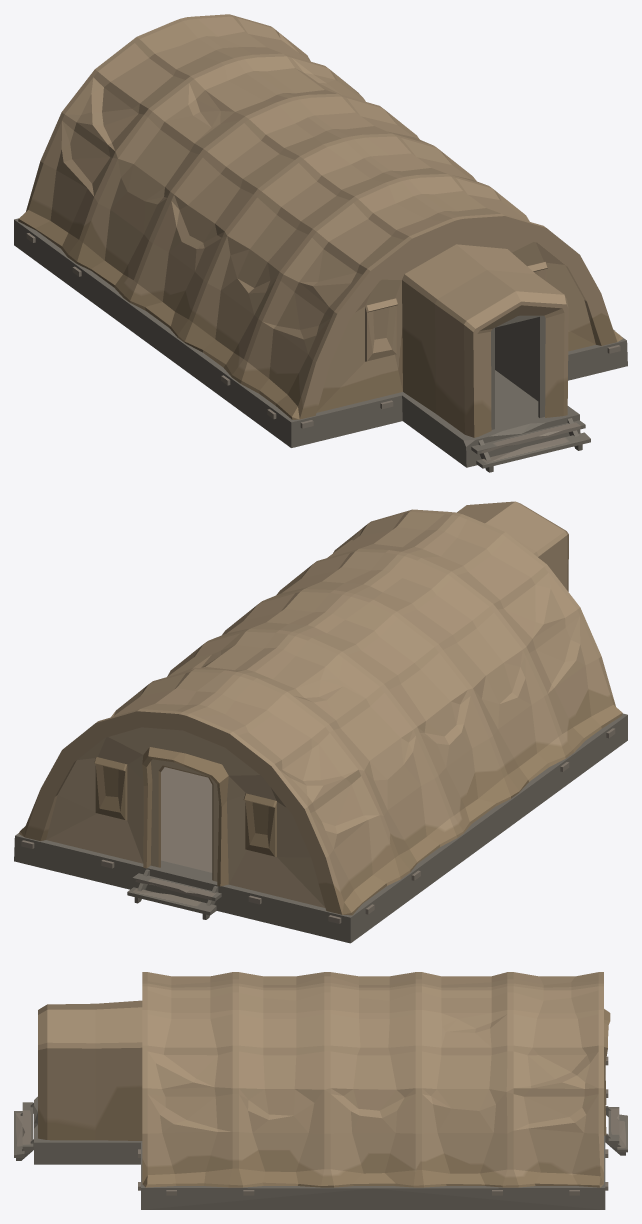
File: SM_Bld_Tent_Entrance_01.glb
3 renders of one model, top to bottom at view 1: azimuth 30°, elevation 25°; view 2: azimuth 150°, elevation 25°; view 3: azimuth 270°, elevation 25°, orthographic. The views are drawn at different scales.
Visible parts, largest first — view 1: SM_Bld_Tent_Entrance_01; view 2: SM_Bld_Tent_Entrance_01; view 3: SM_Bld_Tent_Entrance_01.
Part boxes in pixels (left/top/right/bottom): SM_Bld_Tent_Entrance_01: left=14, top=14, right=627, bottom=472; SM_Bld_Tent_Entrance_01: left=14, top=501, right=627, bottom=943; SM_Bld_Tent_Entrance_01: left=14, top=972, right=627, bottom=1209.
Size of the model in its own units: 7.8 by 4.07 by 14.49.
Materials: 1 (1 with a texture image).
